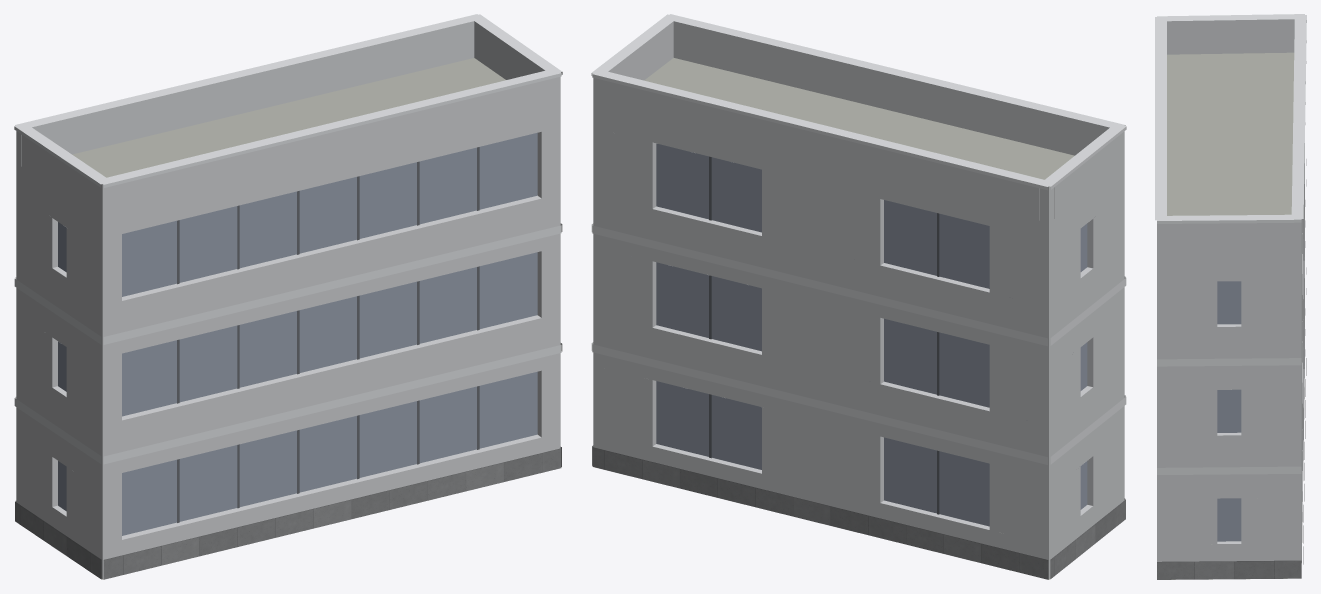
3 renders of one model, left to right at view 1: azimuth 30°, elevation 25°; view 2: azimuth 150°, elevation 25°; view 3: azimuth 270°, elevation 25°, orthographic. The views are drawn at different scales.
Parts seen in each view (by area): view 1: b66c__wall, b66c__glass, b66c__parapet, b66c__trim, b66c__roof, b66c__base, b66c__frame; view 2: b66c__wall, b66c__glass, b66c__parapet, b66c__trim, b66c__roof, b66c__base, b66c__frame; view 3: b66c__wall, b66c__roof, b66c__trim, b66c__parapet, b66c__glass, b66c__base.
Boxes of the visible parts, x1,y1,x2,y2 form: b66c__wall: (16,109,560,579); b66c__glass: (58,132,537,535); b66c__parapet: (16,21,560,220); b66c__trim: (14,14,562,464); b66c__roof: (72,58,505,579); b66c__base: (15,447,561,579); b66c__frame: (177,147,479,522); b66c__wall: (593,110,1124,579); b66c__glass: (656,143,1087,526); b66c__parapet: (593,21,1124,222); b66c__trim: (591,14,1126,464); b66c__roof: (644,58,1074,579); b66c__base: (592,445,1125,579); b66c__frame: (709,156,939,514); b66c__wall: (1157,146,1304,562); b66c__roof: (1167,52,1304,579); b66c__trim: (1155,14,1306,474); b66c__parapet: (1157,19,1301,253); b66c__glass: (1217,281,1241,541); b66c__base: (1157,358,1306,579).
Size of the model in its own units: 14.72 by 11.93 by 4.56.
7 materials, 1 textured.
